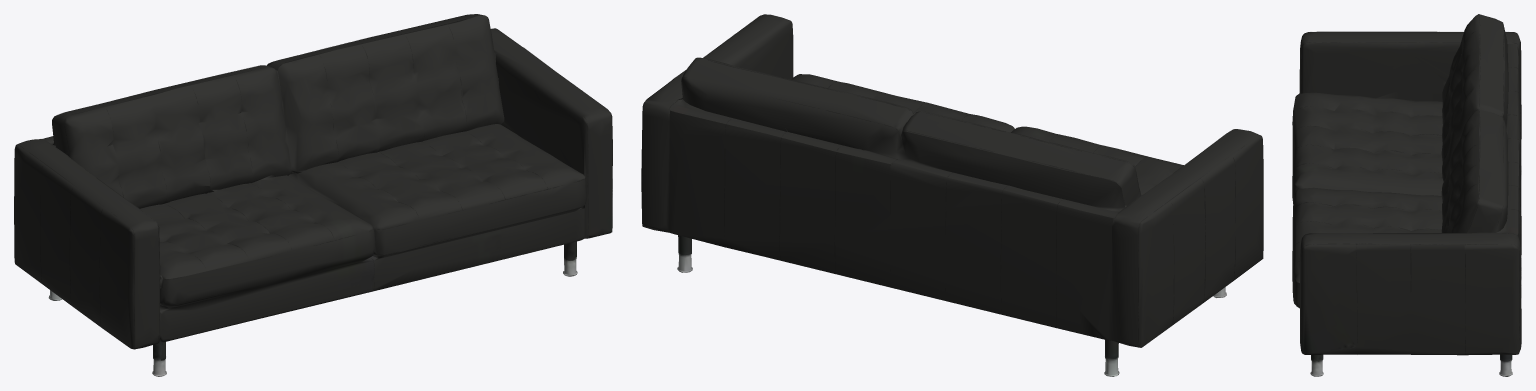
The model's file is 31 - LANDSKRONA - 三人座沙發，GrannBomstad 黑色金屬 IKEA 線上購物.glb.
3 views of the same model, side by side, from view 1: azimuth 30°, elevation 25°; view 2: azimuth 150°, elevation 25°; view 3: azimuth 270°, elevation 25° (orthographic). The views are drawn at different scales.
Visible parts, largest first — view 1: ProcessedMeshNode; view 2: ProcessedMeshNode; view 3: ProcessedMeshNode.
Part boxes in pixels (x1,y1,x2,y2): ProcessedMeshNode: [14, 14, 612, 376]; ProcessedMeshNode: [641, 14, 1263, 376]; ProcessedMeshNode: [1292, 14, 1521, 376].
Size of the model in its own units: 2.07 by 0.7885 by 0.9228.
Materials: 2 (2 with a texture image).
